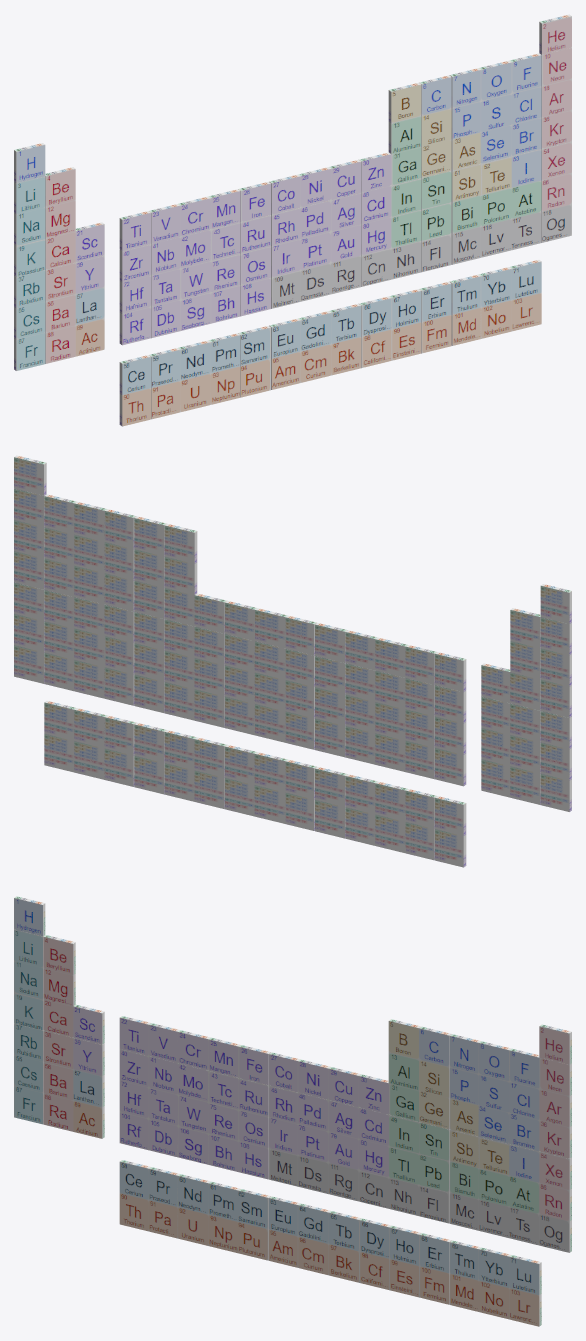
The model's file is perodic table.fbx.
3 views of the same model, one above another, from view 1: azimuth 30°, elevation 25°; view 2: azimuth 150°, elevation 25°; view 3: azimuth 330°, elevation 25° (orthographic).
Visible parts, largest first — view 1: pCube78, pCube84, pCube98, pCube83, pCube21, pCube1, pCube106, pCube94, pCube117, pCube43, pCube29, pCube110 (+106 smaller); view 2: pCube78, pCube84, pCube117, pCube98, pCube21, pCube1, pCube106, pCube83, pCube94, pCube43, pCube29, pCube110 (+106 smaller); view 3: pCube84, pCube101, pCube13, pCube43, pCube117, pCube98, pCube1, pCube17, pCube110, pCube29, pCube83, pCube34 (+106 smaller).
Boxes of the visible parts, box(x1,y1,x2,y2) form: pCube78: box(388, 82, 421, 122); pCube84: box(539, 14, 571, 54); pCube98: box(478, 267, 511, 307); pCube83: box(478, 60, 511, 100); pCube21: box(119, 211, 150, 251); pCube1: box(14, 143, 45, 182); pCube106: box(119, 355, 150, 394); pCube94: box(388, 116, 421, 154); pCube117: box(298, 311, 331, 351); pCube43: box(298, 167, 330, 207); pCube29: box(178, 196, 210, 236); pCube110: box(178, 340, 210, 380); pCube78: box(164, 523, 197, 563); pCube84: box(14, 455, 46, 495); pCube117: box(254, 752, 287, 792); pCube98: box(74, 708, 107, 748); pCube21: box(435, 652, 466, 692); pCube1: box(540, 584, 571, 623); pCube106: box(435, 796, 466, 835); pCube83: box(74, 501, 107, 541); pCube94: box(164, 557, 197, 595); pCube43: box(255, 608, 287, 648); pCube29: box(375, 637, 407, 677); pCube110: box(375, 781, 407, 821); pCube84: box(539, 1024, 571, 1064); pCube101: box(509, 1255, 541, 1295); pCube13: box(43, 935, 75, 974); pCube43: box(297, 1059, 330, 1099); pCube117: box(297, 1203, 330, 1243); pCube98: box(478, 1247, 510, 1287); pCube1: box(14, 896, 45, 936); pCube17: box(73, 1004, 104, 1044); pCube110: box(177, 1174, 210, 1214); pCube29: box(177, 1030, 210, 1070); pCube83: box(478, 1041, 511, 1081); pCube34: box(238, 1045, 270, 1085).
Size of the model in its own units: 234 by 121 by 1.78.
